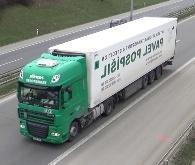Truck: (15, 17, 177, 146)
